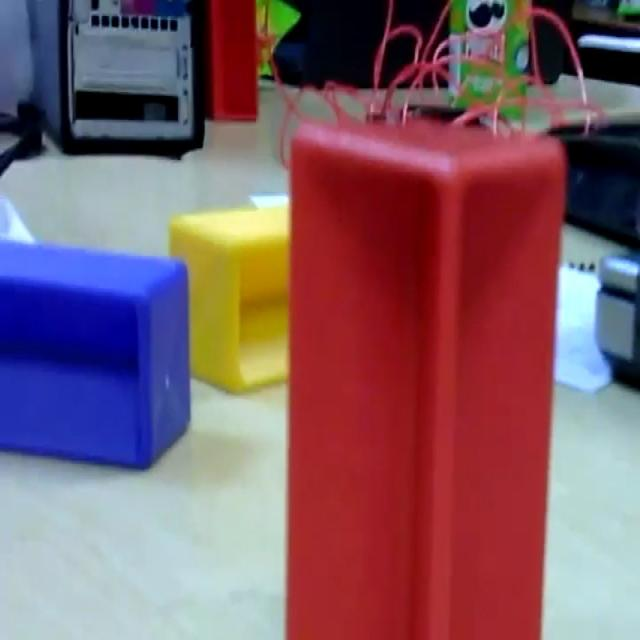blue_block: (0, 233, 191, 470)
red_block: (284, 116, 568, 636)
yellow_block: (168, 196, 290, 393)
